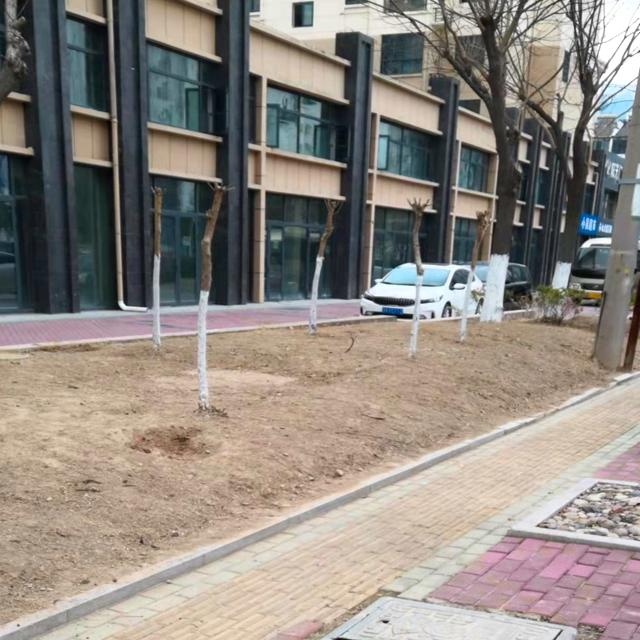uncovered: (272, 551, 568, 640)
